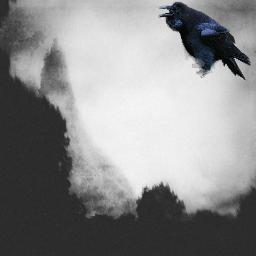Crow: (158, 1, 251, 82)
